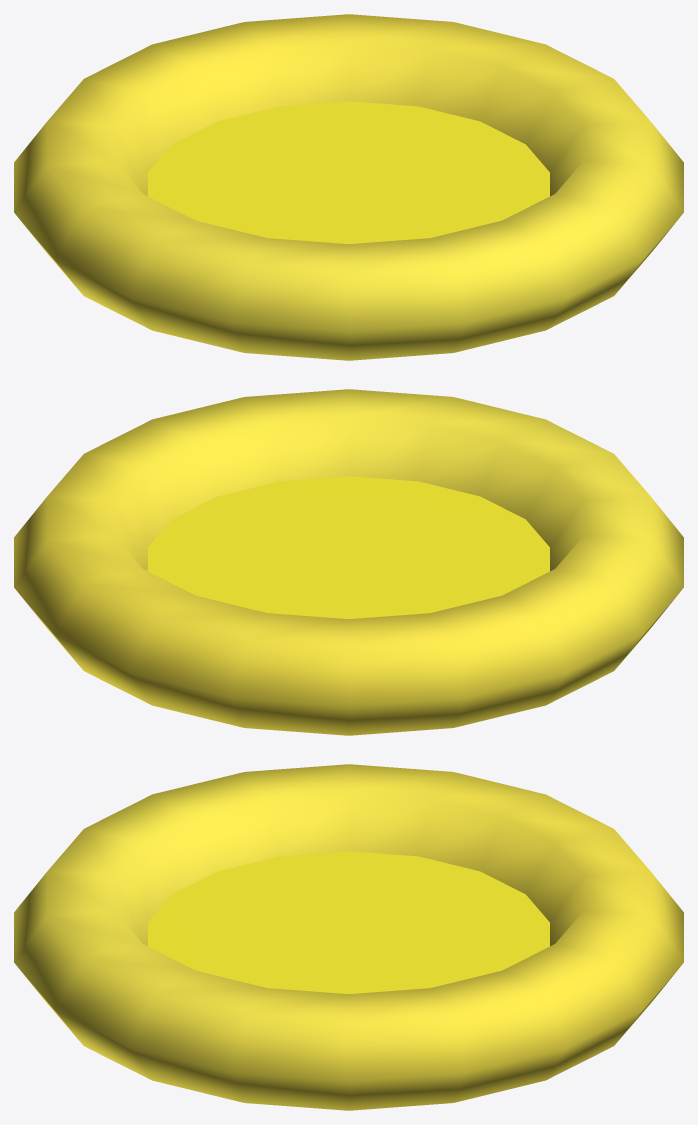
The model's file is Platform_Light.fbx.
The picture shows the model from 3 angles, top to bottom: view 1: azimuth 30°, elevation 25°; view 2: azimuth 150°, elevation 25°; view 3: azimuth 270°, elevation 25°; orthographic projection.
Parts seen in each view (by area): view 1: Lightning_Base; view 2: Lightning_Base; view 3: Lightning_Base.
Boxes of the visible parts, <box> form: Lightning_Base: <box>14,14,683,360</box>; Lightning_Base: <box>14,389,683,735</box>; Lightning_Base: <box>14,764,683,1110</box>.
Bounding box in the file's own units: 2.71 × 0.3861 × 2.67.
Materials: 1 (1 with a texture image).
